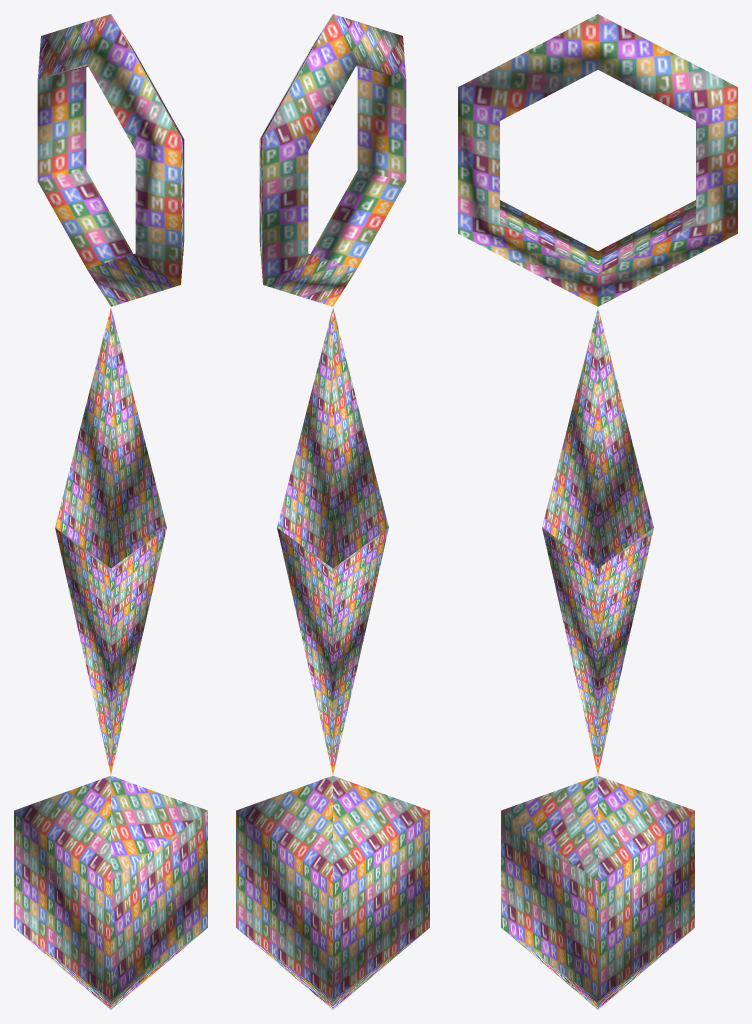
3 views of the same model, side by side, from view 1: azimuth 30°, elevation 25°; view 2: azimuth 150°, elevation 25°; view 3: azimuth 270°, elevation 25° (orthographic).
Visible parts, largest first — view 1: Base, Torus, ArmSecondary, ArmPrimary; view 2: Base, Torus, ArmSecondary, ArmPrimary; view 3: Torus, Base, ArmSecondary, ArmPrimary.
Boxes of the visible parts, x1=… form: Base: x1=14, y1=775, x2=207, y2=1009; Torus: x1=37, y1=14, x2=184, y2=306; ArmSecondary: x1=55, y1=308, x2=166, y2=568; ArmPrimary: x1=55, y1=528, x2=166, y2=774; Base: x1=236, y1=775, x2=429, y2=1009; Torus: x1=259, y1=14, x2=406, y2=306; ArmSecondary: x1=277, y1=308, x2=388, y2=568; ArmPrimary: x1=277, y1=528, x2=388, y2=774; Torus: x1=458, y1=14, x2=737, y2=306; Base: x1=501, y1=775, x2=694, y2=1009; ArmSecondary: x1=542, y1=308, x2=653, y2=568; ArmPrimary: x1=542, y1=528, x2=653, y2=774.
Size of the model in its own units: 0.6495 by 4.25 by 1.08.
Materials: 4 (4 with a texture image).
